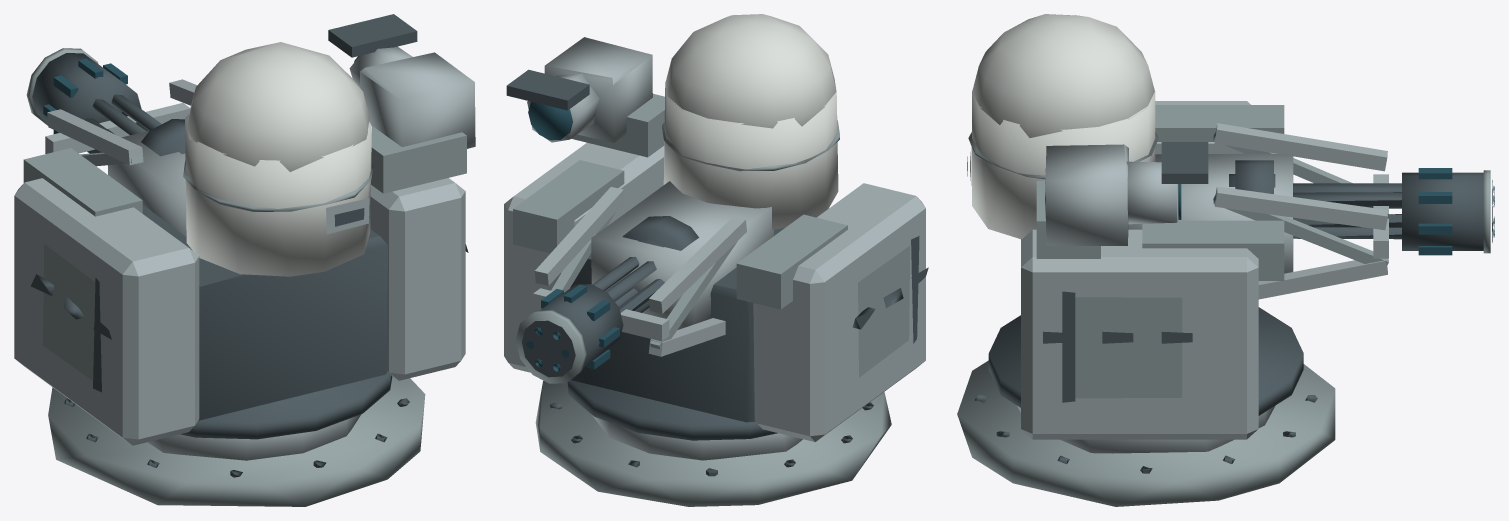
Rendered from MOD_CIWS_U1.fbx.
3 renders of one model, left to right at view 1: azimuth 30°, elevation 25°; view 2: azimuth 150°, elevation 25°; view 3: azimuth 270°, elevation 25°, orthographic. The views are drawn at different scales.
Visible parts, largest first — view 1: TurretPivot Naval Blue Grey mesh, TurretPivot Radar Glass mesh, TurretPivot Gunmetal mesh, Deck flange, TurretPivot Deck Grey mesh, ElevationPivot Naval Blue Grey mesh, MOD_CIWS_Real Gunmetal mesh, BarrelCluster Gunmetal mesh, Pedestal neck, Barrel drive ring, BarrelCluster Sensor Glass mesh, Shroud front rim; view 2: TurretPivot Naval Blue Grey mesh, TurretPivot Radar Glass mesh, Deck flange, TurretPivot Deck Grey mesh, ElevationPivot Naval Blue Grey mesh, TurretPivot Gunmetal mesh, BarrelCluster Gunmetal mesh, MOD_CIWS_Real Gunmetal mesh, Pedestal neck, ElevationPivot Deck Grey mesh, Shroud front rim, Barrel drive ring (+2 smaller); view 3: TurretPivot Naval Blue Grey mesh, TurretPivot Radar Glass mesh, Deck flange, TurretPivot Deck Grey mesh, ElevationPivot Naval Blue Grey mesh, BarrelCluster Gunmetal mesh, MOD_CIWS_Real Gunmetal mesh, TurretPivot Gunmetal mesh, ElevationPivot Deck Grey mesh, Pedestal neck, BarrelCluster Sensor Glass mesh, Barrel drive ring (+1 smaller).
Part boxes in pixels (x1,y1,x2,y2): TurretPivot Naval Blue Grey mesh: [14, 46, 475, 445]; TurretPivot Radar Glass mesh: [185, 42, 371, 276]; TurretPivot Gunmetal mesh: [31, 14, 468, 420]; Deck flange: [48, 376, 425, 506]; TurretPivot Deck Grey mesh: [23, 126, 466, 380]; ElevationPivot Naval Blue Grey mesh: [45, 79, 196, 237]; MOD_CIWS_Real Gunmetal mesh: [63, 372, 409, 477]; BarrelCluster Gunmetal mesh: [32, 53, 185, 153]; Pedestal neck: [147, 414, 361, 460]; Barrel drive ring: [141, 119, 185, 156]; BarrelCluster Sensor Glass mesh: [43, 58, 127, 133]; Shroud front rim: [26, 48, 98, 125]; TurretPivot Naval Blue Grey mesh: [504, 37, 925, 441]; TurretPivot Radar Glass mesh: [663, 14, 838, 229]; Deck flange: [535, 380, 891, 506]; TurretPivot Deck Grey mesh: [513, 93, 910, 377]; ElevationPivot Naval Blue Grey mesh: [533, 181, 773, 356]; TurretPivot Gunmetal mesh: [506, 69, 928, 422]; BarrelCluster Gunmetal mesh: [522, 240, 664, 377]; MOD_CIWS_Real Gunmetal mesh: [550, 380, 873, 476]; Pedestal neck: [591, 414, 802, 460]; ElevationPivot Deck Grey mesh: [551, 212, 737, 349]; Shroud front rim: [515, 310, 586, 383]; Barrel drive ring: [622, 216, 698, 250]; TurretPivot Naval Blue Grey mesh: [970, 101, 1258, 439]; TurretPivot Radar Glass mesh: [972, 14, 1155, 239]; Deck flange: [957, 360, 1335, 506]; TurretPivot Deck Grey mesh: [968, 105, 1284, 398]; ElevationPivot Naval Blue Grey mesh: [1128, 123, 1388, 299]; BarrelCluster Gunmetal mesh: [1229, 172, 1492, 250]; MOD_CIWS_Real Gunmetal mesh: [974, 307, 1317, 473]; TurretPivot Gunmetal mesh: [967, 142, 1208, 402]; ElevationPivot Deck Grey mesh: [1213, 132, 1388, 266]; Pedestal neck: [1017, 405, 1275, 453]; BarrelCluster Sensor Glass mesh: [1418, 168, 1494, 255]; Barrel drive ring: [1235, 160, 1273, 194].
Bounding box in the file's own units: 165 × 173 × 208.
